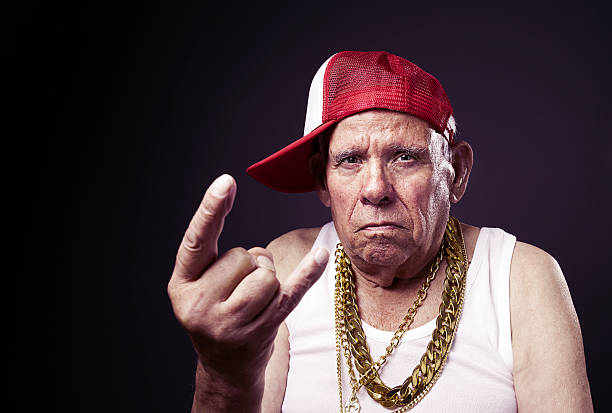Rock On: (164, 172, 333, 368)
